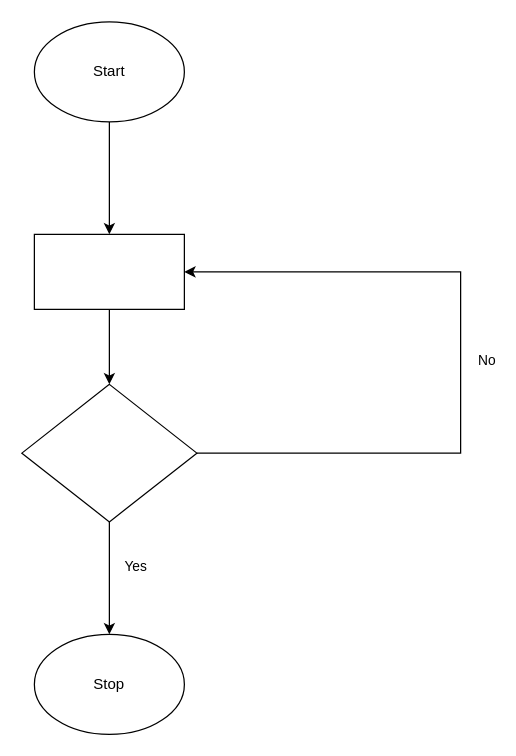
Image size: 516x756. Some labels were removed from this diagram. The shapes that lost their labels are listed below. From the top down, each one's box as (x1, y1, x2, y2) in pixels, then its label:
(33, 233, 184, 309): Eat food
(21, 383, 197, 522): Is user not hungry anymore?
